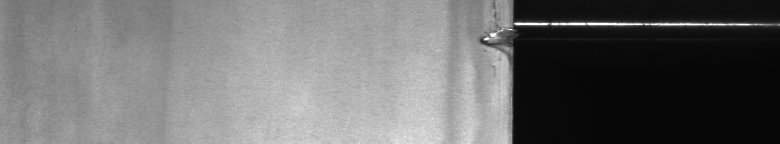hb: (466, 4, 500, 81)
